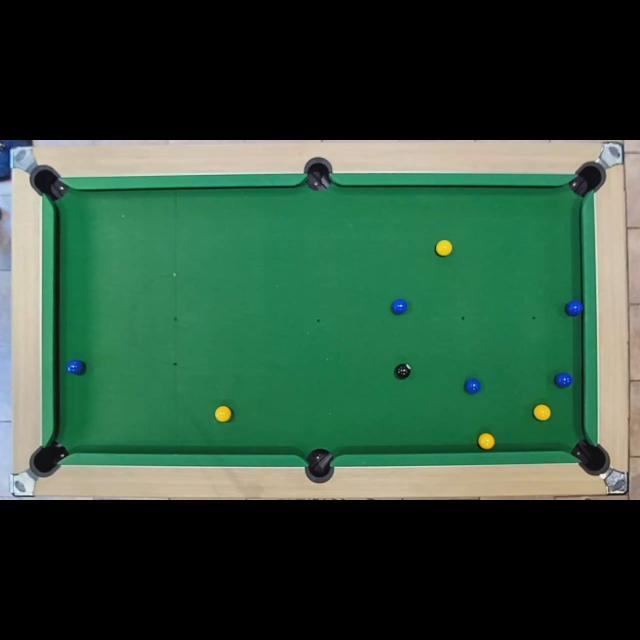Ball: (435, 240, 453, 256), (214, 406, 232, 422), (478, 433, 496, 449), (465, 379, 481, 395), (556, 373, 572, 389), (392, 300, 408, 316), (534, 405, 550, 421), (395, 364, 411, 378), (566, 302, 582, 316), (68, 360, 84, 374)
